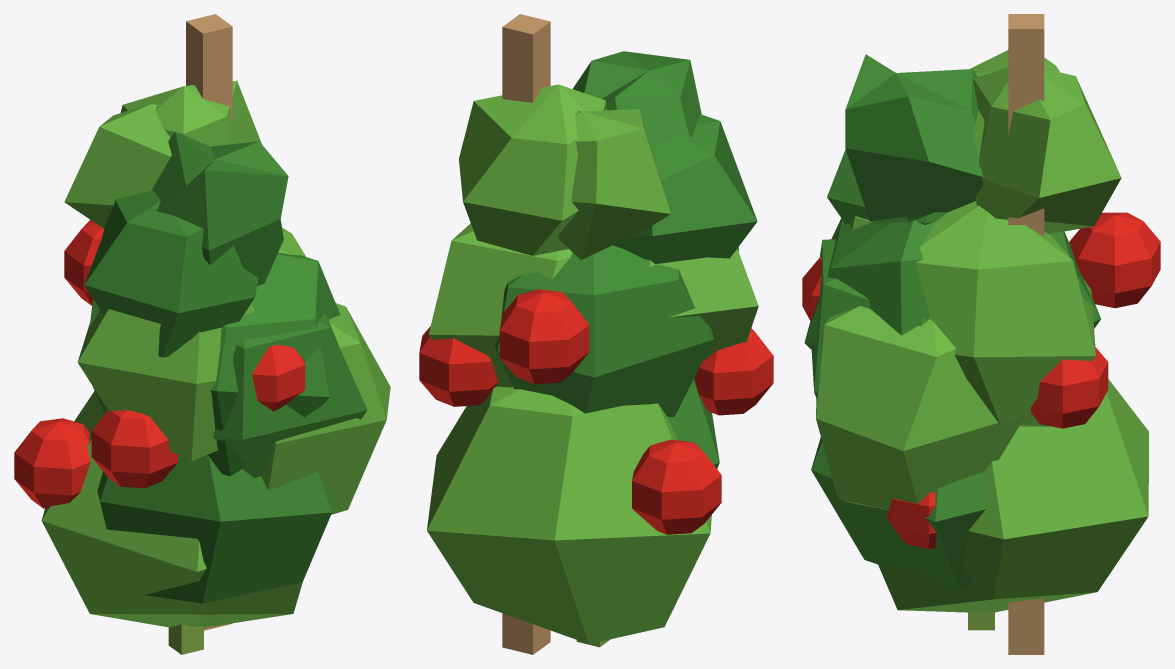
Rendered from tomato_4.obj.
3 views of the same model, side by side, from view 1: azimuth 30°, elevation 25°; view 2: azimuth 150°, elevation 25°; view 3: azimuth 270°, elevation 25° (orthographic). The views are drawn at different scales.
Parts seen in each view (by area): view 1: plant; view 2: plant; view 3: plant.
Boxes of the visible parts, x1,y1,x2,y2 form: plant: (14,14,390,654); plant: (419,14,773,654); plant: (802,14,1160,654).
Size of the model in its own units: 0.4107 by 0.77 by 0.3998.
